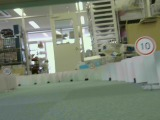speed_10: (133, 35, 157, 56)
